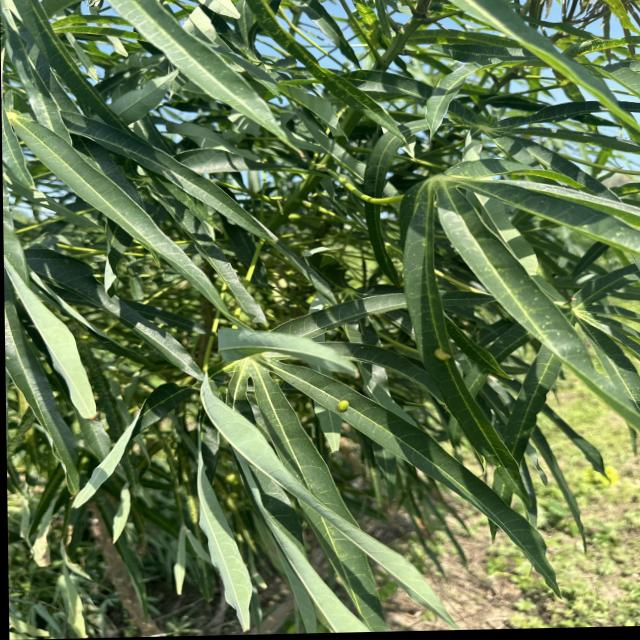Mosca: (324, 386, 371, 421), (432, 345, 470, 376)
